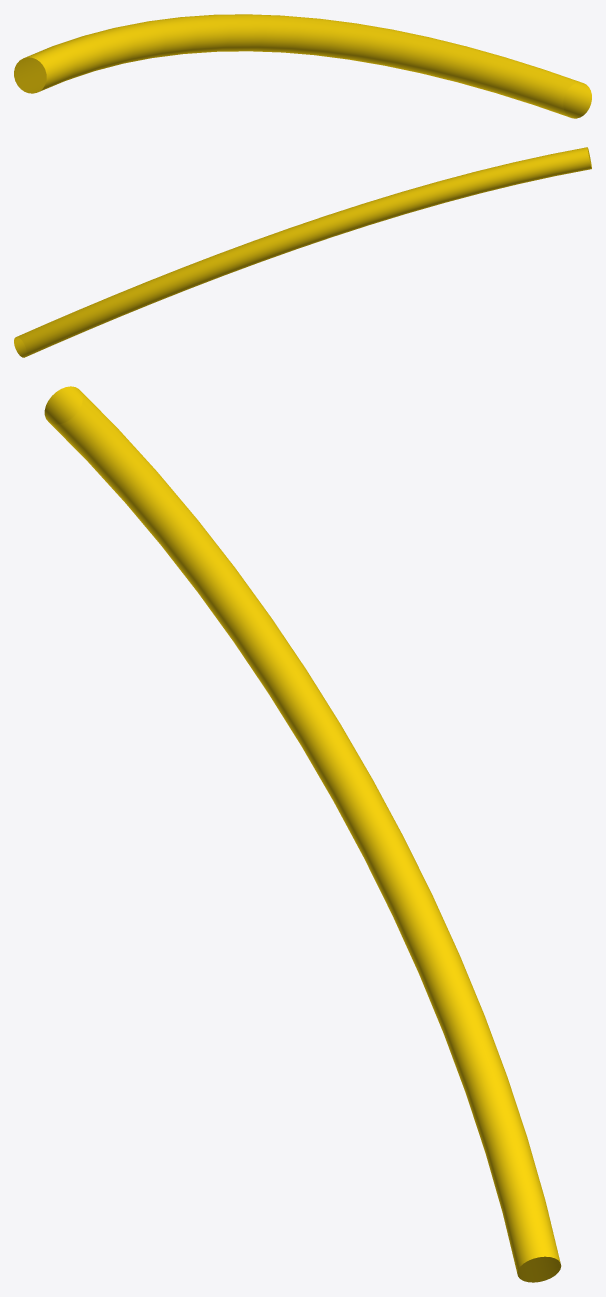
The model's file is Event_421115418_track_100.fbx.
3 views of the same model, one above another, from view 1: azimuth 30°, elevation 25°; view 2: azimuth 150°, elevation 25°; view 3: azimuth 270°, elevation 25° (orthographic). The views are drawn at different scales.
Visible parts, largest first — view 1: Model; view 2: Model; view 3: Model.
Boxes of the visible parts, x1,y1,x2,y2 form: Model: (14, 14, 591, 118); Model: (14, 147, 591, 357); Model: (44, 386, 561, 1282).
Bounding box in the file's own units: 0.9479 × 0.4533 × 0.4597.
